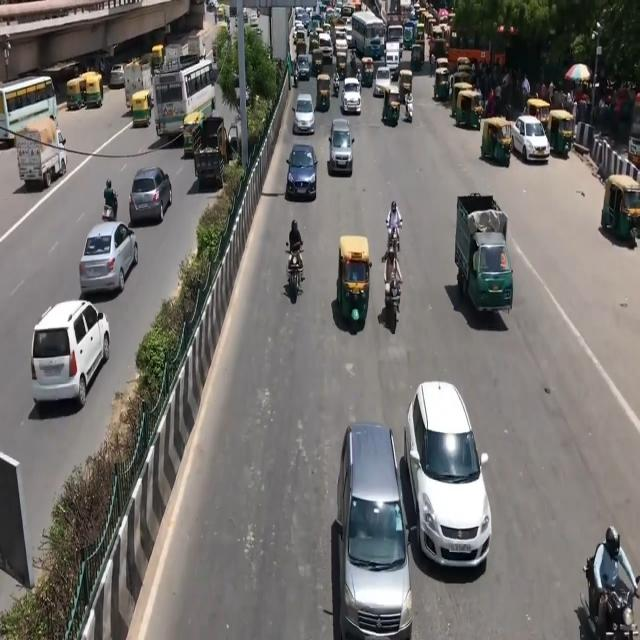Auto: (335, 233, 376, 332)
Bike: (284, 209, 306, 310), (382, 246, 405, 330), (379, 196, 409, 260)
Tempo: (452, 188, 522, 328), (15, 114, 72, 188)
